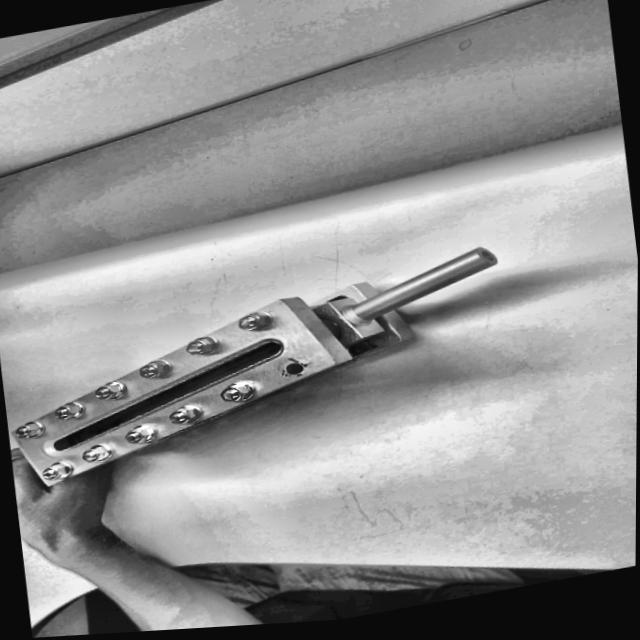ShuiWeiQi_11: (0, 225, 531, 495)
